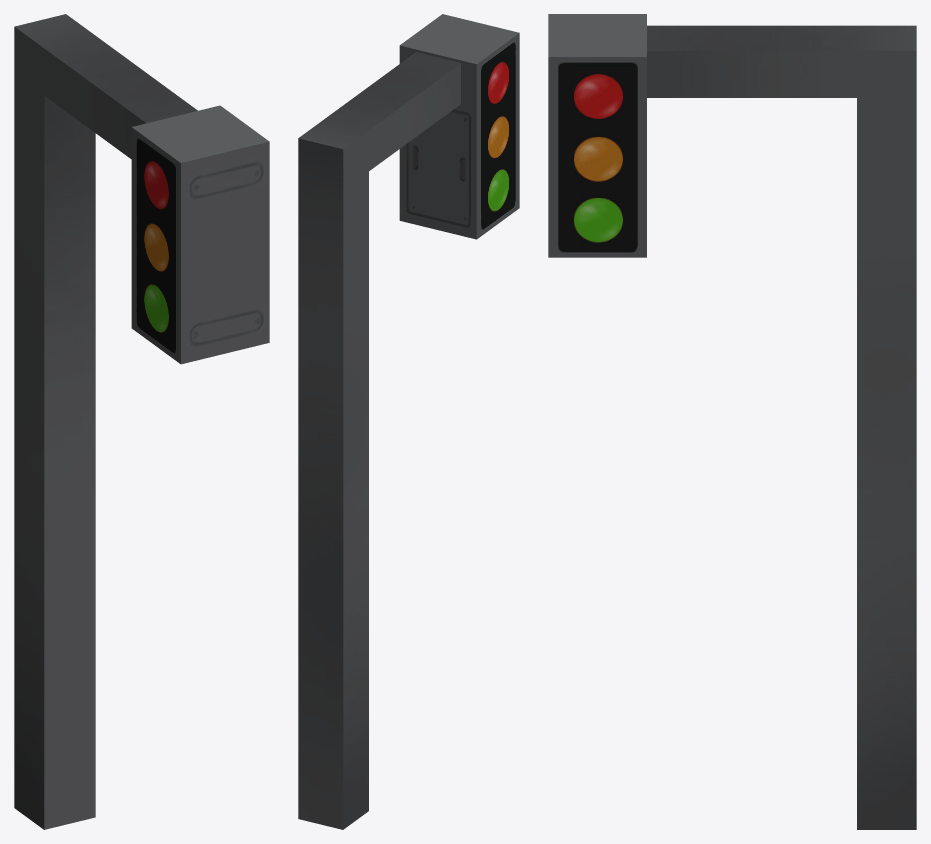
The model's file is swetofor.FBX.
The picture shows the model from 3 angles, left to right: view 1: azimuth 30°, elevation 25°; view 2: azimuth 150°, elevation 25°; view 3: azimuth 270°, elevation 25°; orthographic projection. The views are drawn at different scales.
Parts seen in each view (by area): view 1: Box022; view 2: Box022; view 3: Box022.
Part boxes in pixels (left/top/right/bottom): Box022: left=14, top=14, right=269, bottom=829; Box022: left=298, top=14, right=519, bottom=829; Box022: left=548, top=14, right=916, bottom=829.
Bounding box in the file's own units: 7.47 × 63.22 × 26.97.
1 material, 1 textured.
